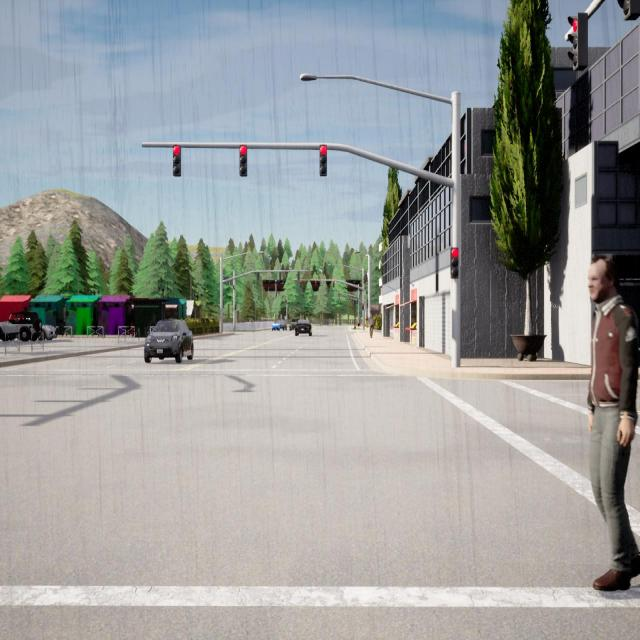Pedestrian: (588, 255, 640, 591), (368, 314, 374, 339)
Traffic_Signs: (285, 316, 287, 320)
Vehicle: (144, 319, 194, 363), (0, 312, 42, 341), (295, 320, 312, 336), (42, 324, 57, 340), (276, 319, 287, 331), (289, 318, 299, 331), (272, 322, 280, 331)
traffic_light: (568, 12, 588, 72), (618, 0, 640, 21), (449, 247, 458, 279), (239, 144, 247, 177), (320, 146, 328, 178), (173, 145, 181, 176), (333, 280, 335, 288), (258, 272, 260, 280), (279, 272, 281, 280), (298, 272, 300, 280), (362, 303, 364, 310), (363, 276, 365, 283), (315, 280, 317, 287), (300, 280, 302, 287), (338, 292, 340, 298), (235, 304, 237, 310), (366, 274, 367, 282)
